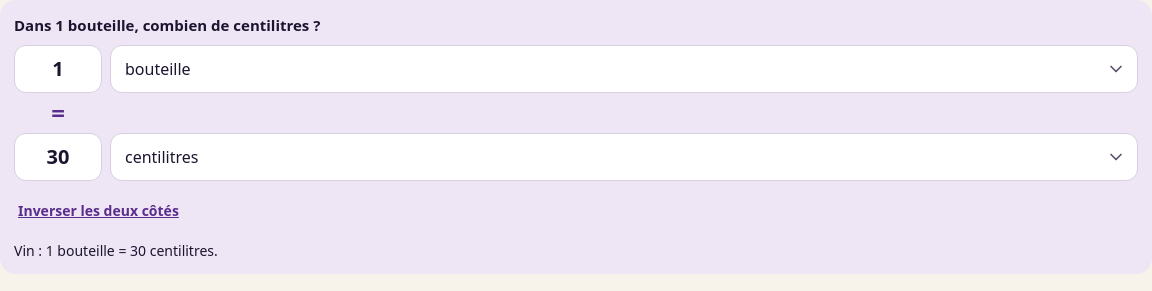
Test: ConversionEquation › pour un ingrédient › pose la question avec les noms réels des unités choisies, au bon nombre
Replace the text in the field named "Quantité de départ" with "2". click: (58, 68)
box: [14,44,102,92]
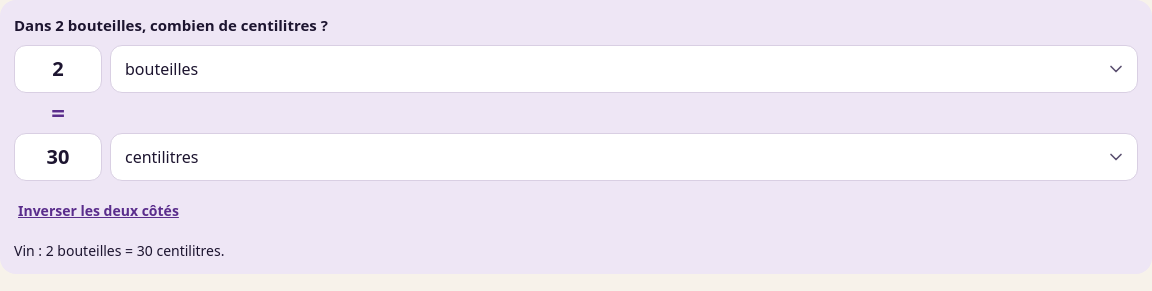
Expected: the text "Dans 2 bouteilles, combien de centilitres ?" is shown, [14,15,328,35]
Expected: the element showing "Vin : 2 bouteilles = 30 centilitres." is shown, [14,240,224,260]
